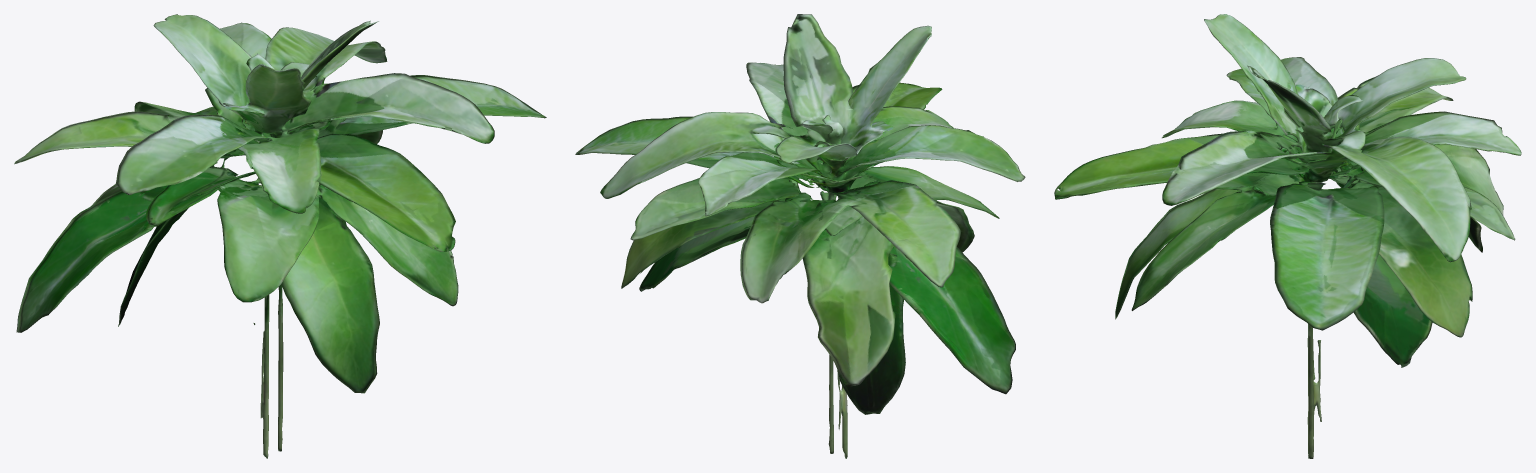
File: h4-Verdant_Foliage.glb
3 renders of one model, left to right at view 1: azimuth 30°, elevation 25°; view 2: azimuth 150°, elevation 25°; view 3: azimuth 270°, elevation 25°, orthographic. The views are drawn at different scales.
Size of the model in its own units: 1.99 by 1.69 by 1.7.
1 material, 1 textured.
